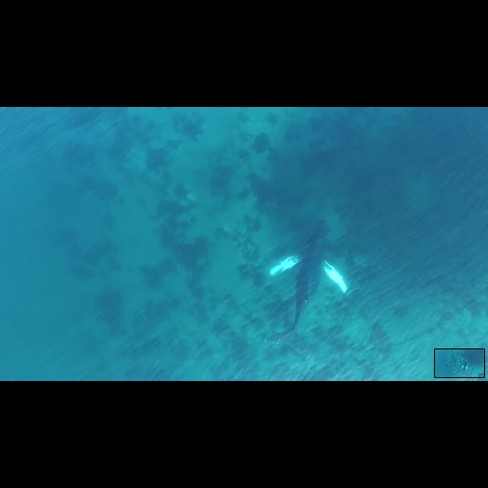hump: (256, 207, 352, 373)
